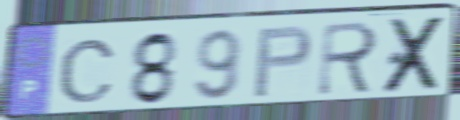8: (128, 27, 180, 109)
9: (192, 26, 245, 102)
C: (56, 37, 118, 106)
P: (250, 23, 315, 100)
R: (314, 18, 382, 98)
X: (379, 13, 450, 97)
